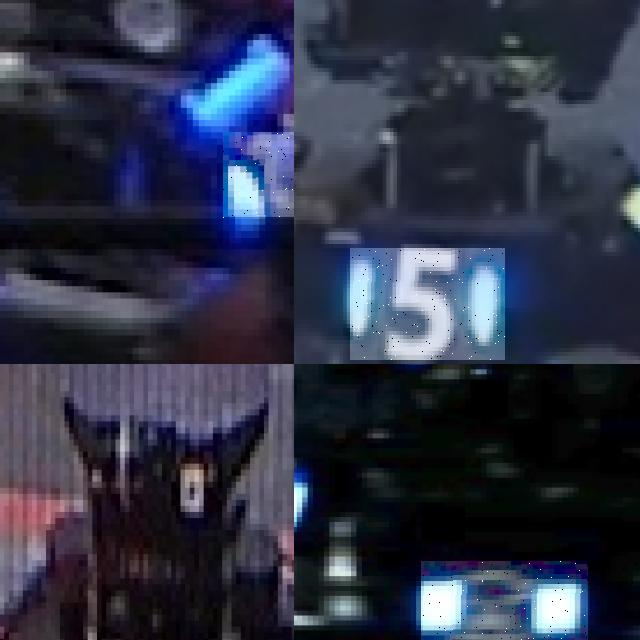B2: (223, 132, 294, 218)
B5: (350, 248, 505, 360)
Bs: (421, 561, 589, 640)
